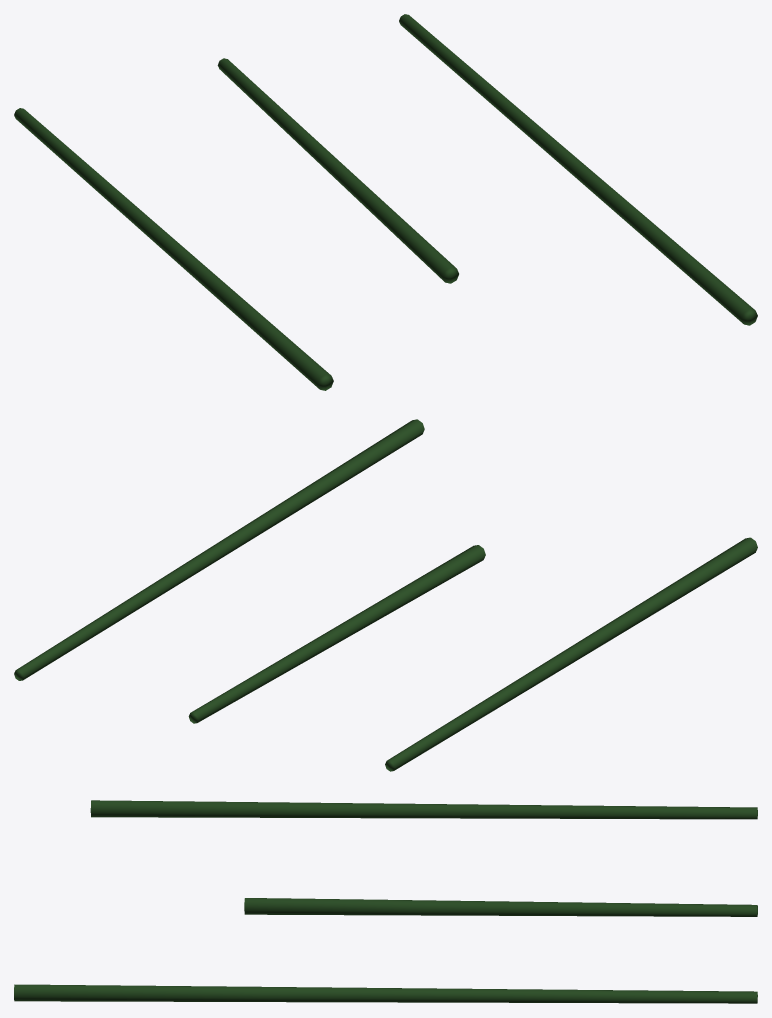
File: FOREST_LIANA_SET.obj
3 views of the same model, one above another, from view 1: azimuth 30°, elevation 25°; view 2: azimuth 150°, elevation 25°; view 3: azimuth 270°, elevation 25° (orthographic). The views are drawn at different scales.
Parts seen in each view (by area): view 1: liana_2, liana_0, liana_1; view 2: liana_2, liana_0, liana_1; view 3: liana_2, liana_0, liana_1.
Part boxes in pixels (x1,y1,x2,y2): liana_2: (399,14,757,325); liana_0: (14,108,333,390); liana_1: (217,58,458,283); liana_2: (14,419,424,680); liana_0: (385,537,757,771); liana_1: (188,545,485,723); liana_2: (14,984,757,1003); liana_0: (90,800,757,819); liana_1: (244,898,757,916).
Size of the model in its own units: 1.91 by 0.11 by 2.9.
